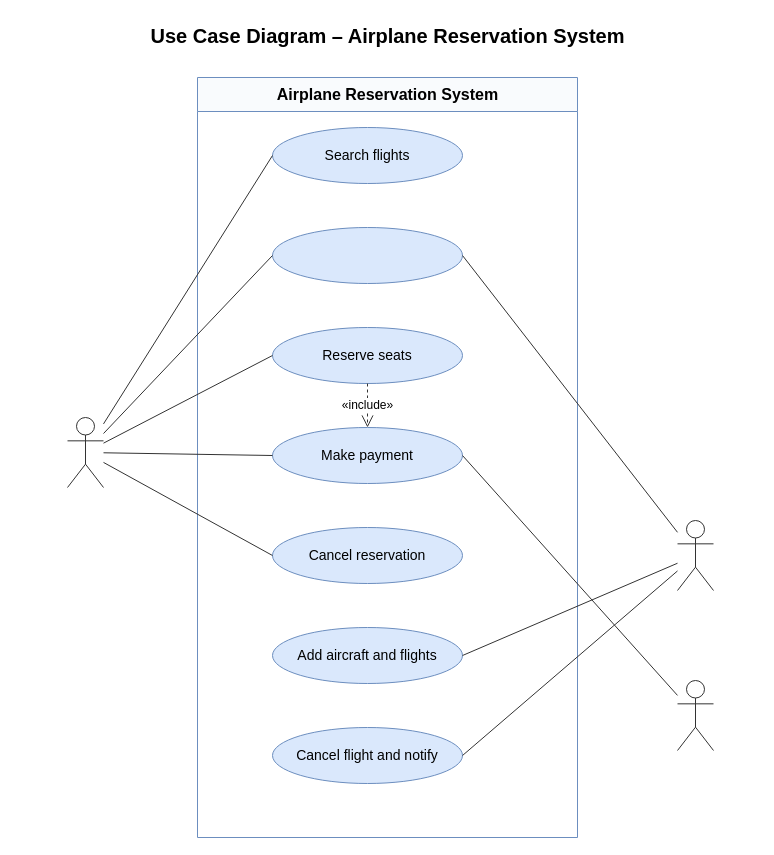
Image size: 774x855. Some labels were removed from this diagram. The centre of each missing label's shape, as x and y in pixels:
"Admin" belongs at (x=695, y=555).
"Customer" belongs at (x=85, y=452).
"Payment Gateway" belongs at (x=695, y=715).
"View flight schedule" belongs at (x=367, y=255).
